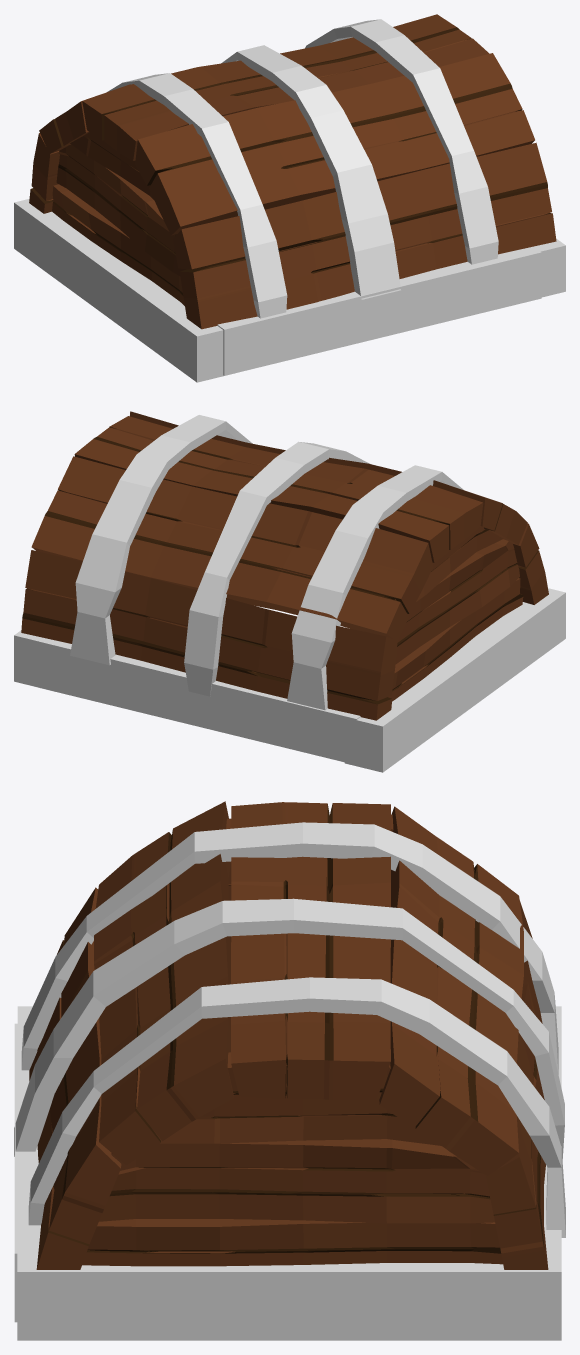
File: ChestTop.fbx
3 views of the same model, one above another, from view 1: azimuth 30°, elevation 25°; view 2: azimuth 150°, elevation 25°; view 3: azimuth 270°, elevation 25° (orthographic). The views are drawn at different scales.
Visible parts, largest first — view 1: Cube.005, Cube.016, Cube.018; view 2: Cube.005, Cube.018, Cube.016; view 3: Cube.005, Cube.018, Cube.016.
Part boxes in pixels (bbox=[...]): Cube.005: bbox=[29, 14, 556, 329]; Cube.016: bbox=[14, 198, 565, 382]; Cube.018: bbox=[107, 19, 498, 318]; Cube.005: bbox=[21, 411, 548, 720]; Cube.018: bbox=[70, 415, 463, 710]; Cube.016: bbox=[14, 588, 565, 772]; Cube.005: bbox=[29, 801, 548, 1269]; Cube.018: bbox=[14, 822, 565, 1237]; Cube.016: bbox=[14, 1006, 561, 1340].
Size of the model in its own units: 429 by 223 by 374.
